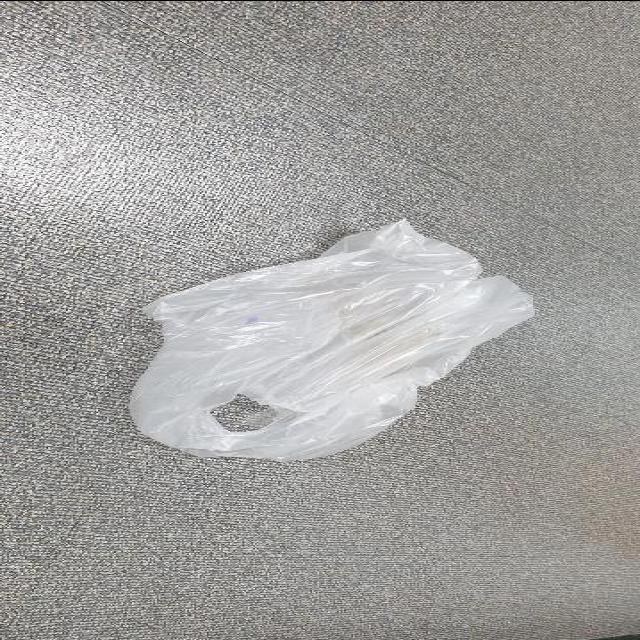plastic bag: (127, 213, 539, 460)
